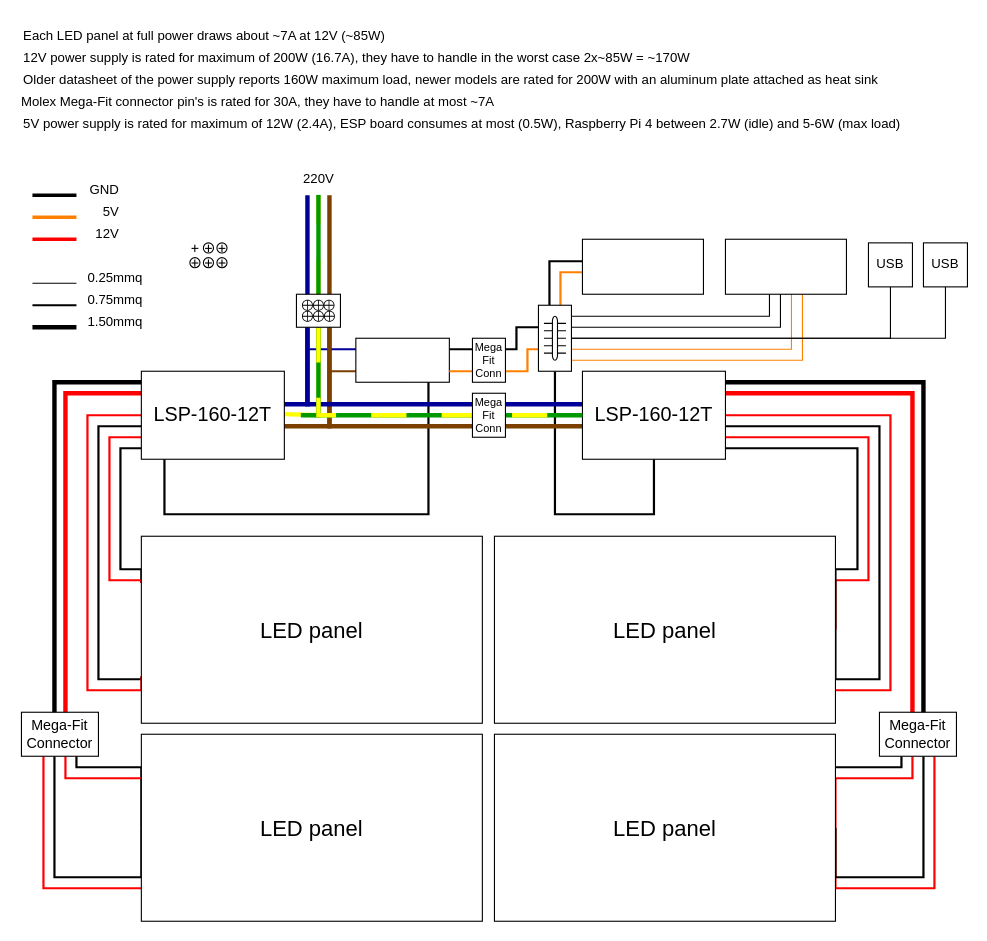
This 987x941 diagram has some shape labels left out. The shapes that lost their labels are listed below. From the top down, each one's box as (x1, y1, x2, y2) in pixels, then its label:
(581, 238, 703, 294): ESP32-C6
(724, 238, 846, 294): Raspberry Pi 4
(355, 337, 449, 382): HDR-15-5
